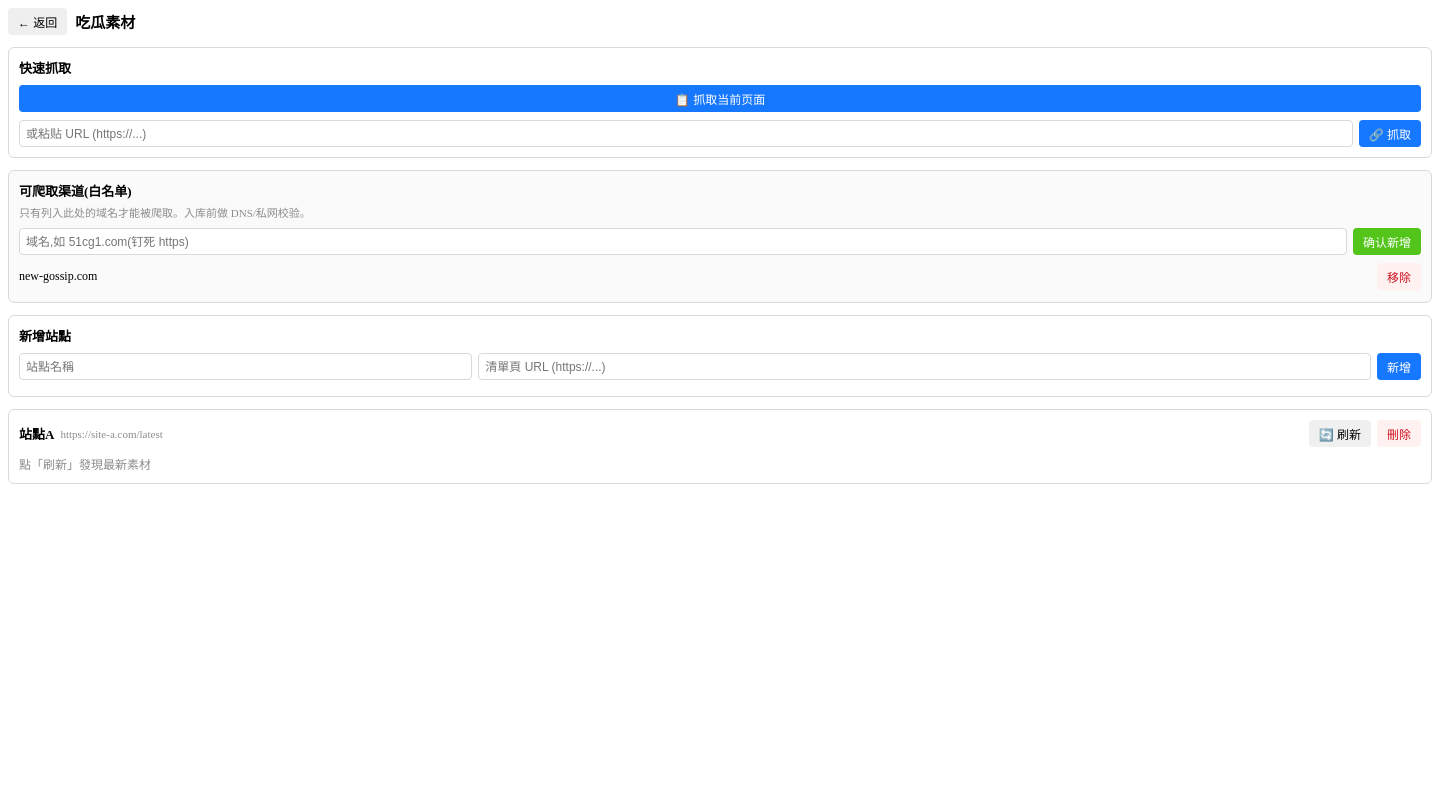
GossipView › 點刷新 → mock discover 返回 5 條 → 顯示 5 條素材
Expected: the text "站點A" is shown, [19, 424, 54, 443]
Click the button "🔄 刷新": (1340, 434) [1309, 420, 1371, 447]
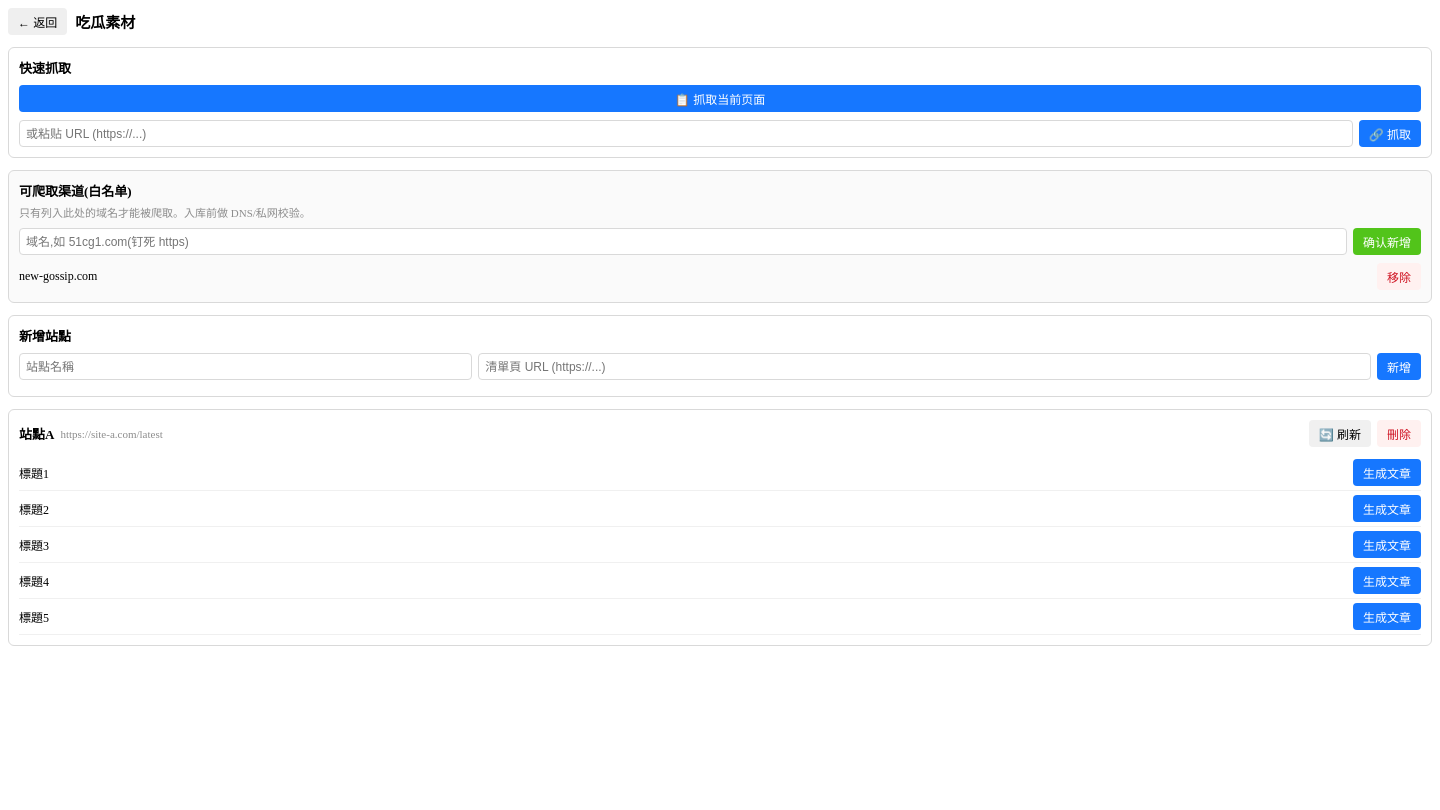
Now the text "標題1" is shown, box [19, 466, 49, 480]
Now the text "標題5" is shown, box [19, 610, 49, 624]
